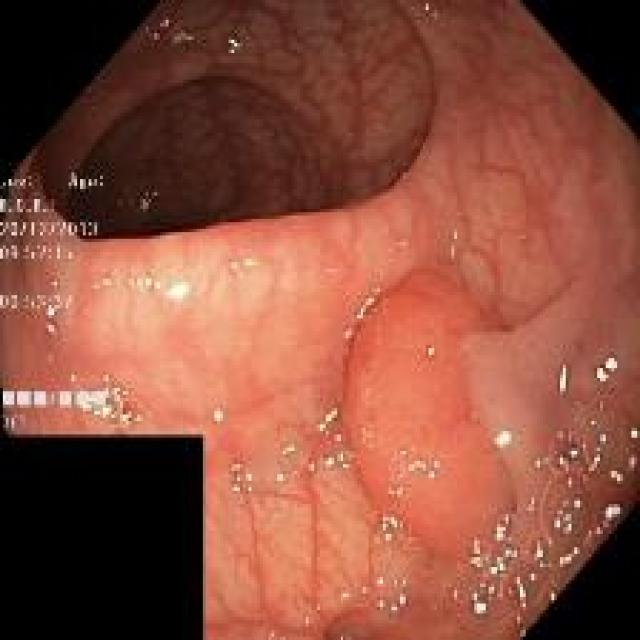Polyps: (342, 271, 515, 555)
